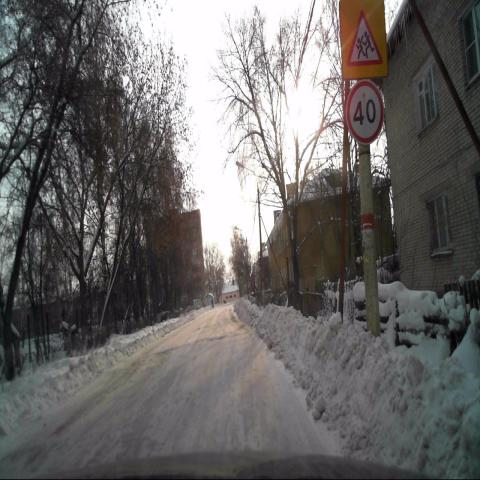3_24: (346, 81, 382, 144)
